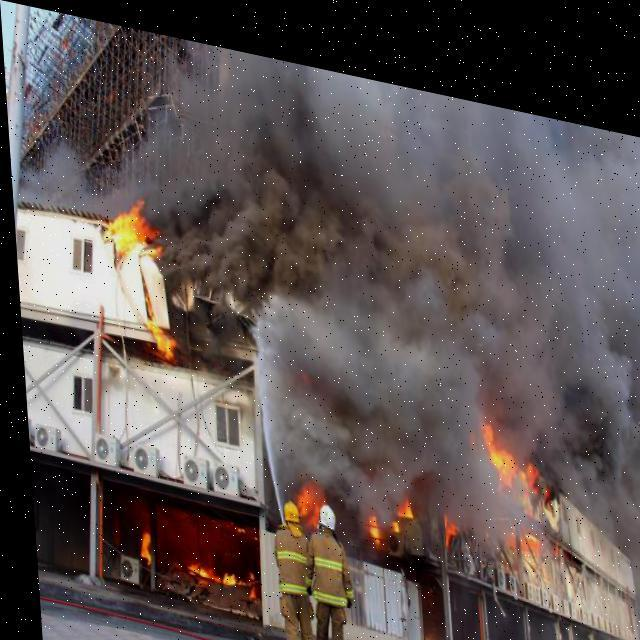Fire: (276, 453, 448, 549), (96, 188, 186, 354), (469, 394, 554, 532)
